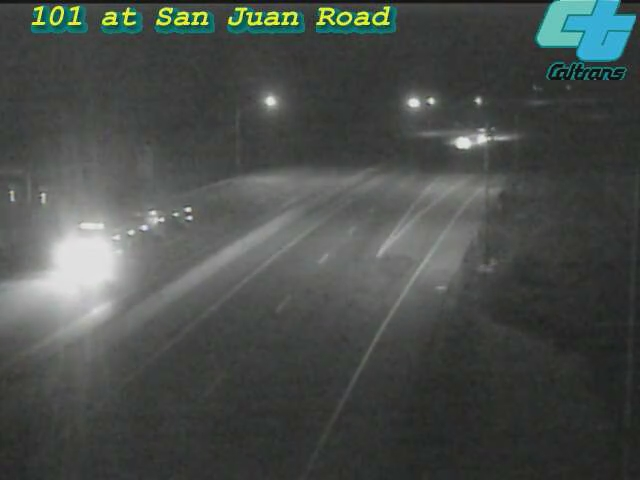vehicle: (60, 207, 140, 287), (464, 110, 514, 160), (438, 117, 488, 167)
